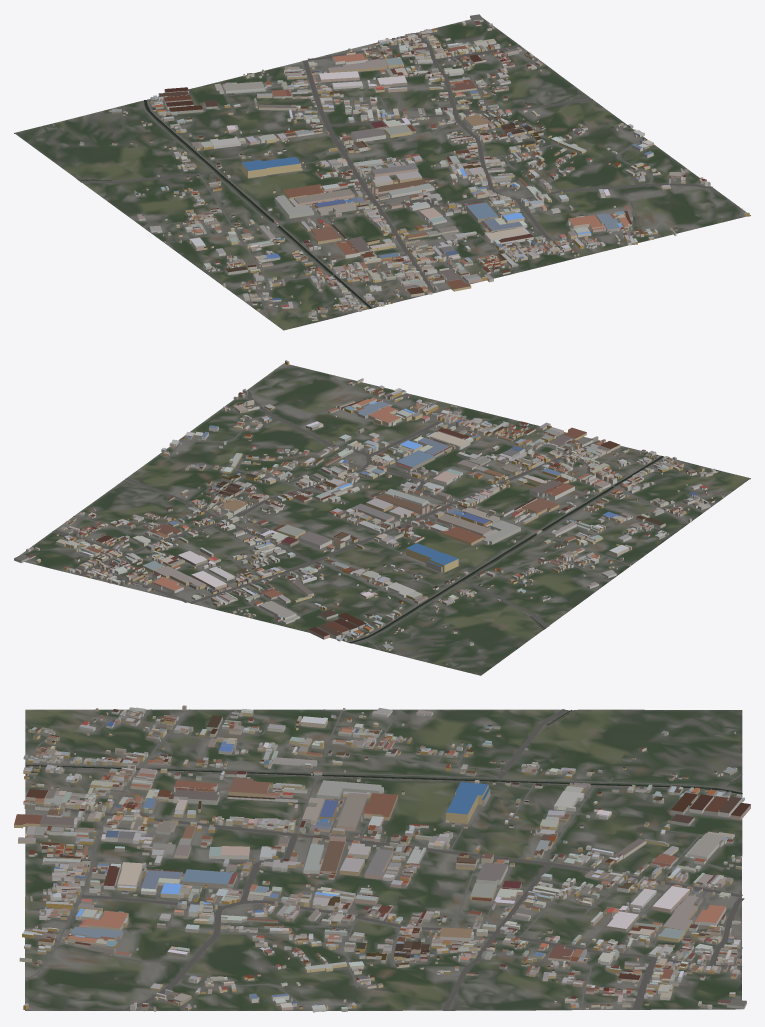
3 renders of one model, top to bottom at view 1: azimuth 30°, elevation 25°; view 2: azimuth 150°, elevation 25°; view 3: azimuth 270°, elevation 25°, orthographic. The views are drawn at different scales.
Parts seen in each view (by area): view 1: ground, buildings, roads, water; view 2: ground, buildings, roads, water; view 3: ground, buildings, roads, water.
Boxes of the visible parts, <box> form: ground: <box>14,17,750,330</box>; buildings: <box>52,14,749,320</box>; roads: <box>77,20,742,313</box>; water: <box>78,100,371,308</box>; ground: <box>19,363,750,675</box>; buildings: <box>14,360,723,664</box>; roads: <box>29,365,721,650</box>; water: <box>349,456,663,643</box>; ground: <box>25,709,742,1010</box>; buildings: <box>14,705,750,1012</box>; roads: <box>25,709,744,1010</box>; water: <box>25,710,742,794</box>.
Bounding box in the file's own units: 1410 × 27.51 × 1440.
